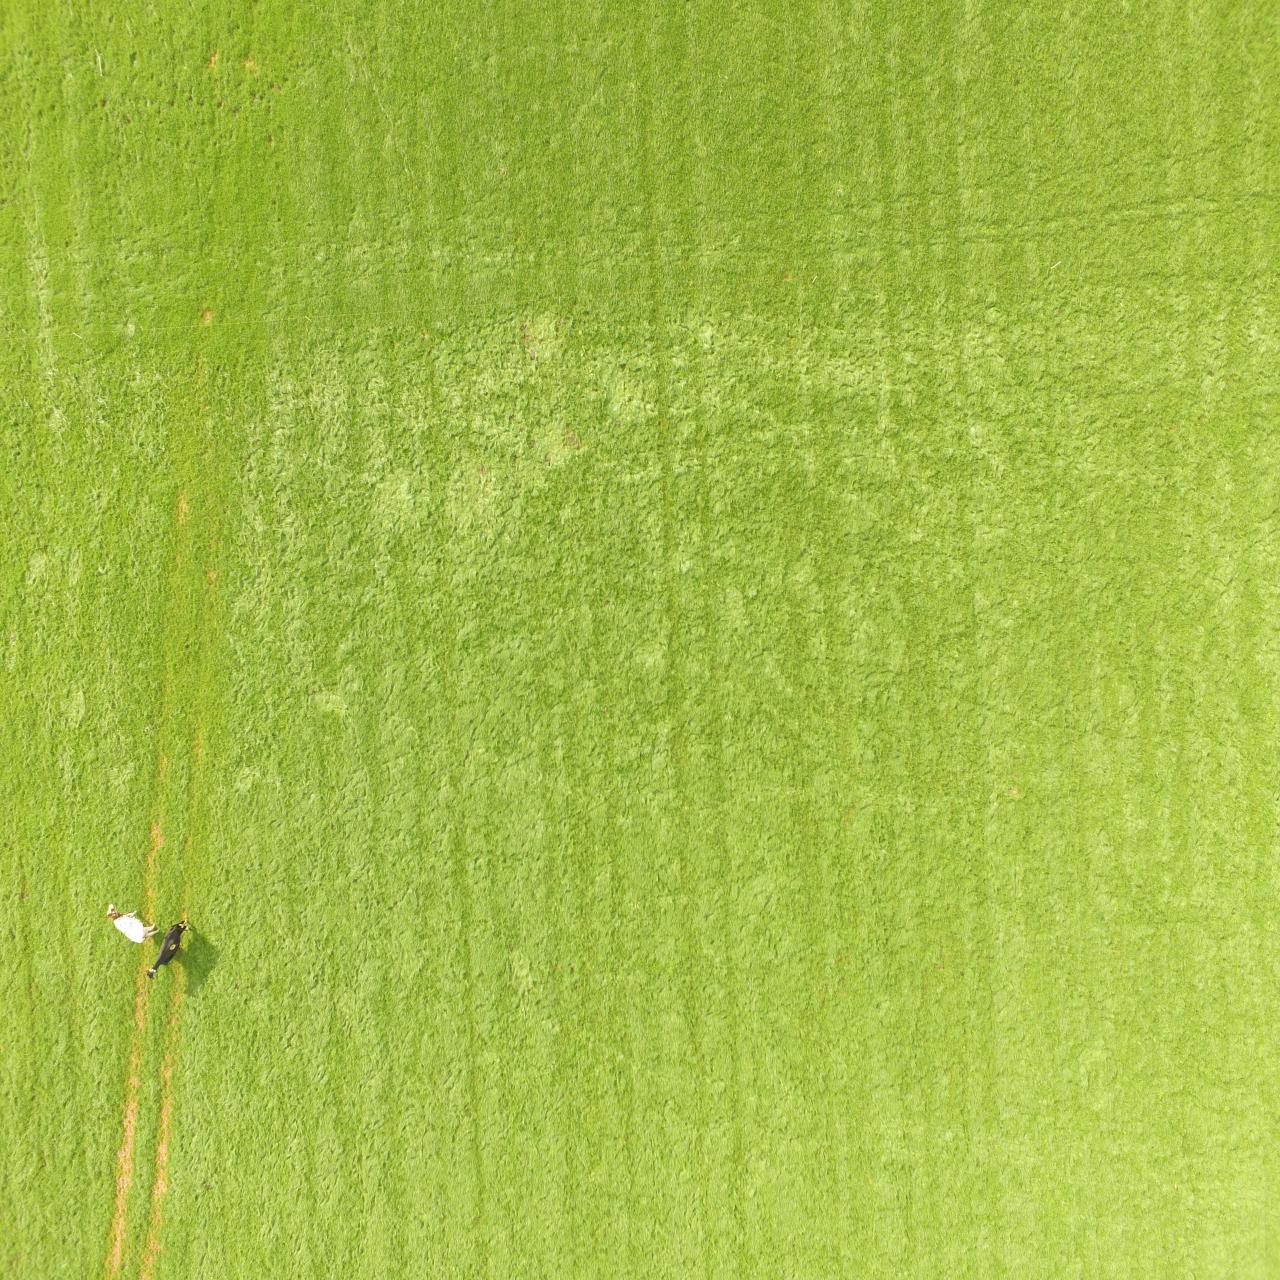cow: (145, 919, 190, 979), (107, 904, 159, 945)
